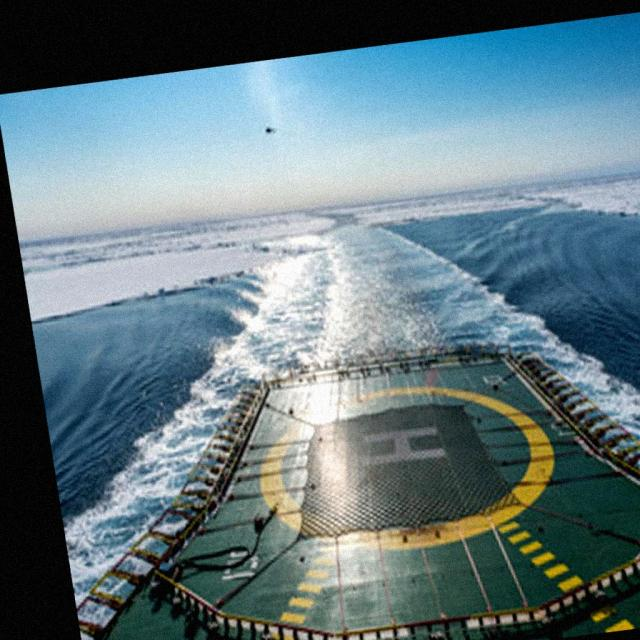helipad: (253, 384, 555, 554)
